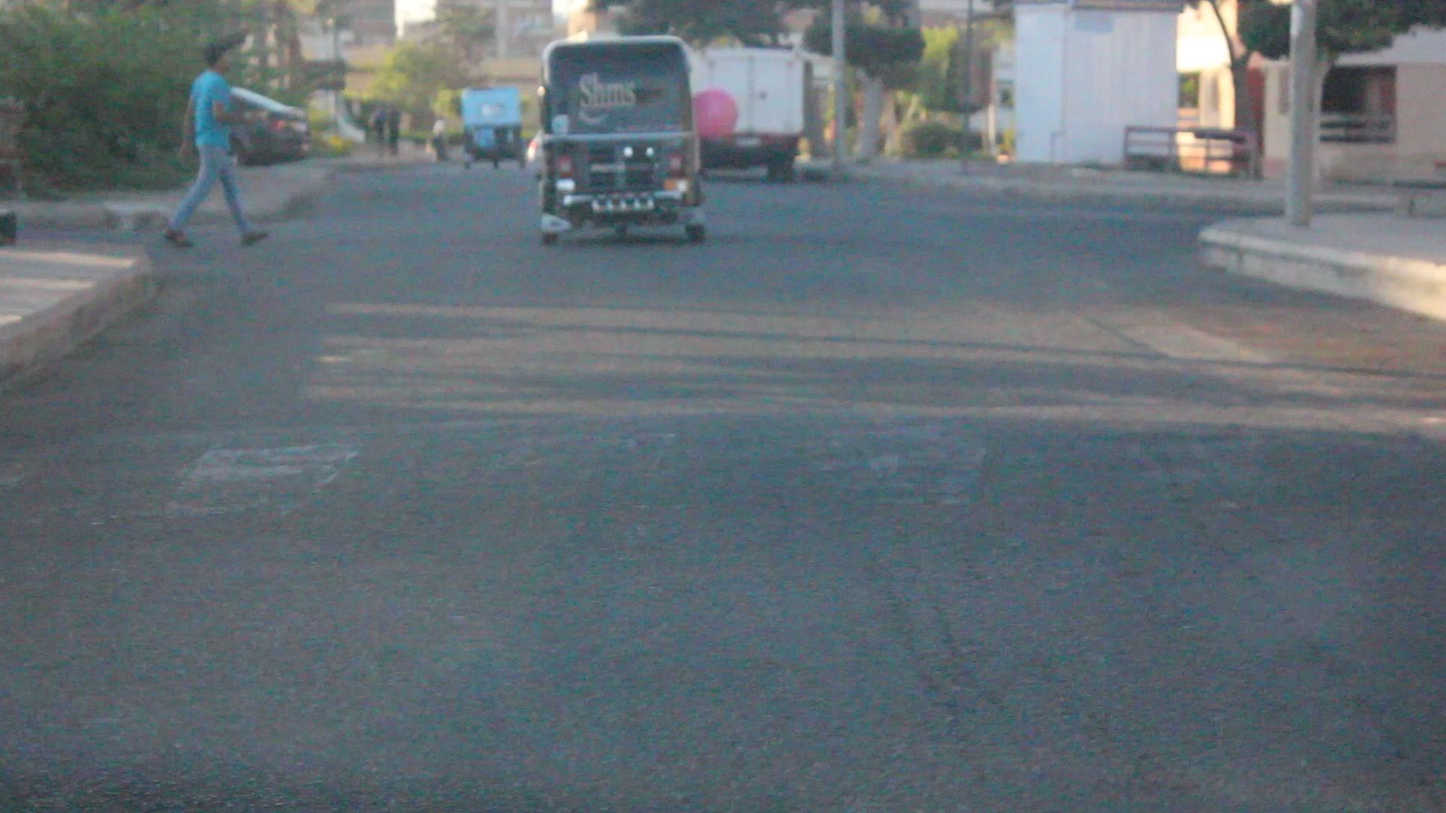Bump: (4, 410, 1446, 561)
